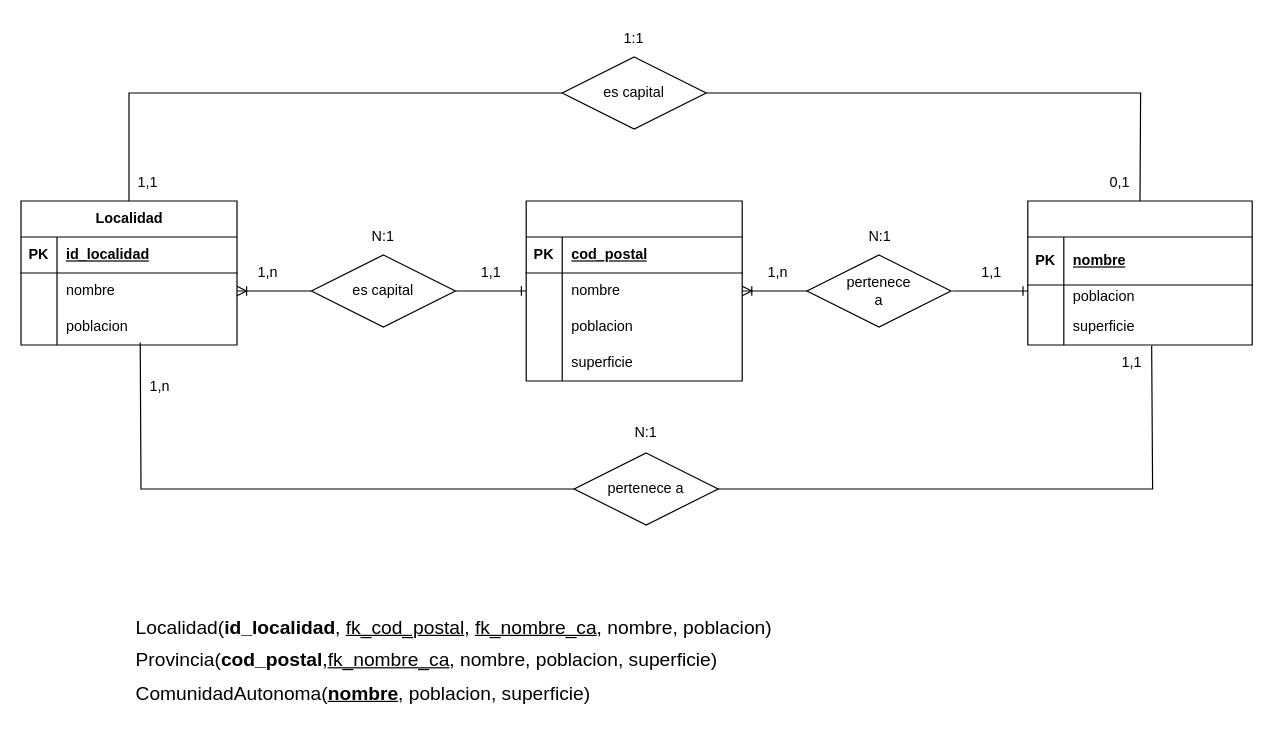
The diagram is 1273 pixels wide and 732 high, and some of its shapes have lost their labels. Here are the shapes that lost their labels. From the top down, the box of each, then its label:
(525, 200, 742, 381): Provincia
(1027, 200, 1252, 345): ComunidadAutonoma
